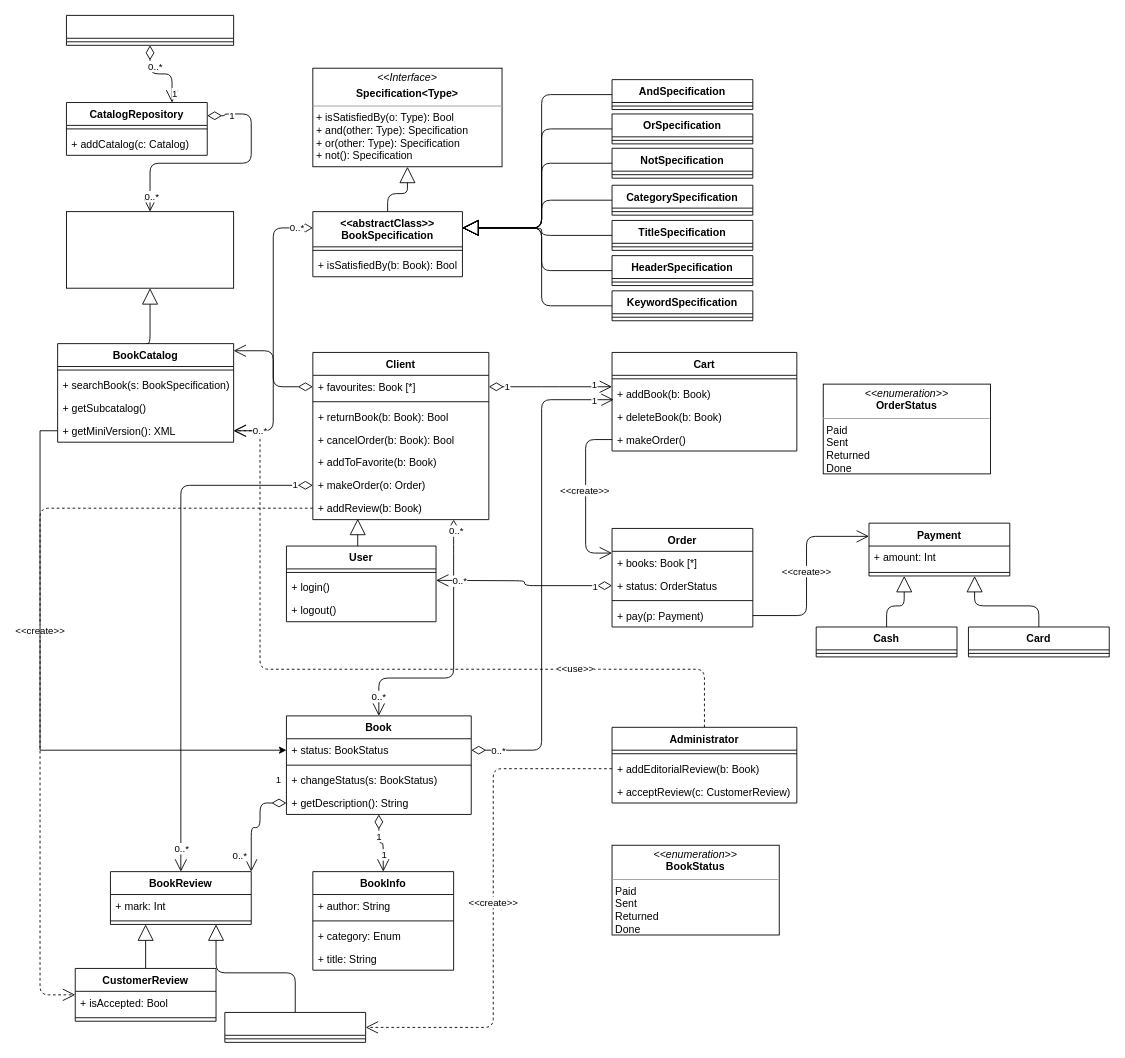
This 1125x1058 diagram has some shape labels left out. The shapes that lost their labels are listed below. From the top down, each one's centre as x and y in pixels, then its label:
At pixel 150 30: "WebService".
At pixel 150 249: "<<Interface>> Catalog + showBook(b: Book) + show()".
At pixel 295 1027: "EditorialReview".
